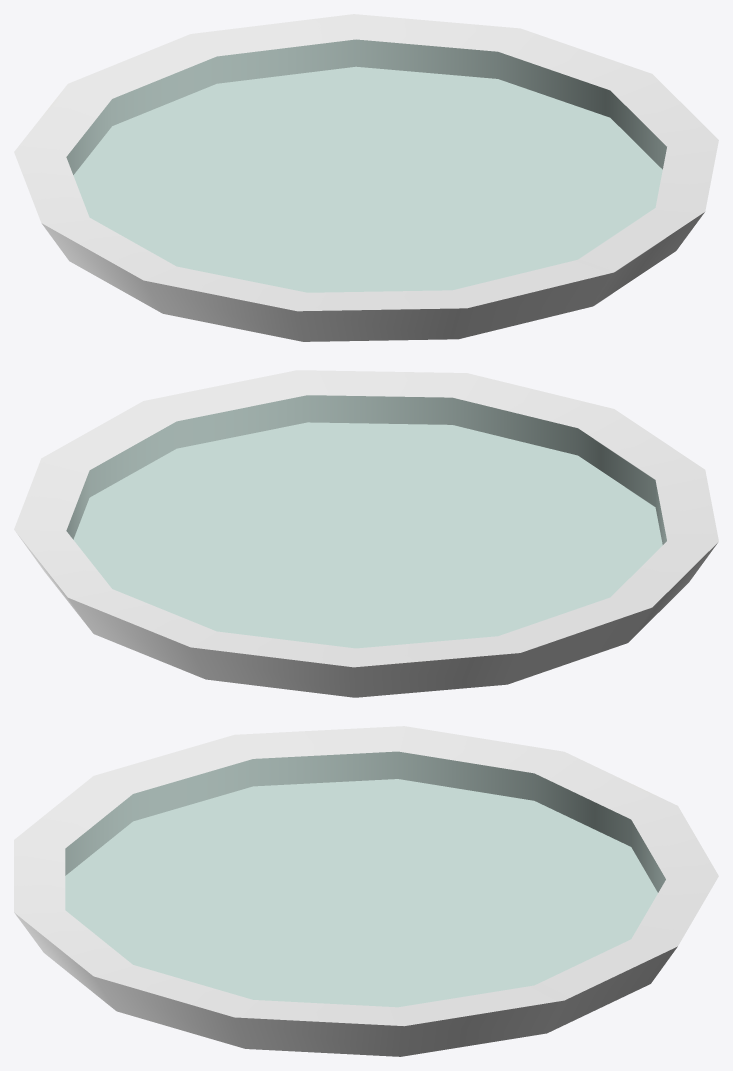
File: plate.glb
3 renders of one model, top to bottom at view 1: azimuth 30°, elevation 25°; view 2: azimuth 150°, elevation 25°; view 3: azimuth 270°, elevation 25°, orthographic.
Parts seen in each view (by area): view 1: omurice.001; view 2: omurice.001; view 3: omurice.001.
Part boxes in pixels (x1=…): omurice.001: x1=14, y1=14, x2=718, y2=341; omurice.001: x1=14, y1=370, x2=718, y2=697; omurice.001: x1=14, y1=726, x2=718, y2=1056.
Bounding box in the file's own units: 0.5738 × 0.0389 × 0.5697.
Materials: 1 (1 with a texture image).
